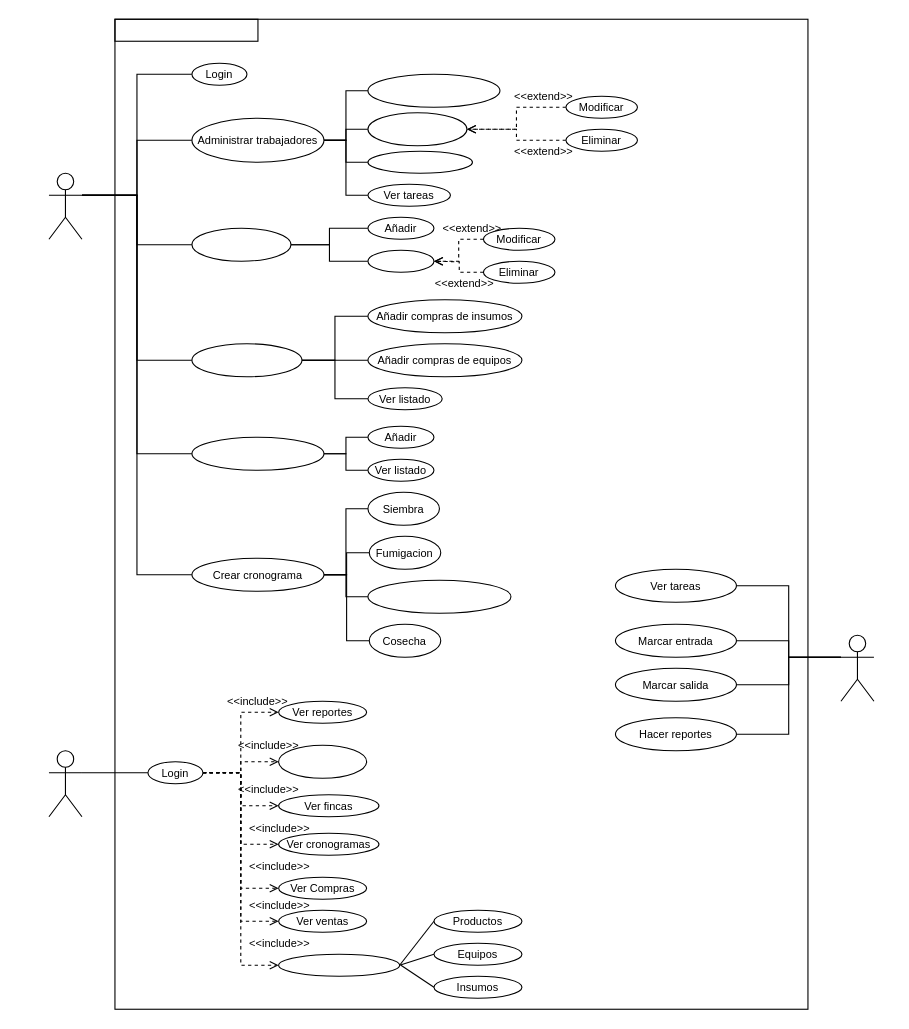
This 909x1029 diagram has some shape labels left out. The shapes that lost their labels are listed below. From the top down, each one's centre as x and y in pixels, then its label:
[186,29]: CROP SERVICES
[433,90]: Agregar trabajadores
[417,129]: Ver listado de trabajadores
[419,161]: Asignar tareas
[65,205]: Admin "Jefe"
[241,244]: Administrar Finca
[400,260]: Ver finca
[246,360]: Administrar compras
[257,453]: Administrar ventas
[439,596]: Aplicacion de fertilizantes
[857,667]: Trabajador
[322,761]: Ver lista trabajadores
[65,783]: Dueño de Finca
[339,964]: Ver inventario
